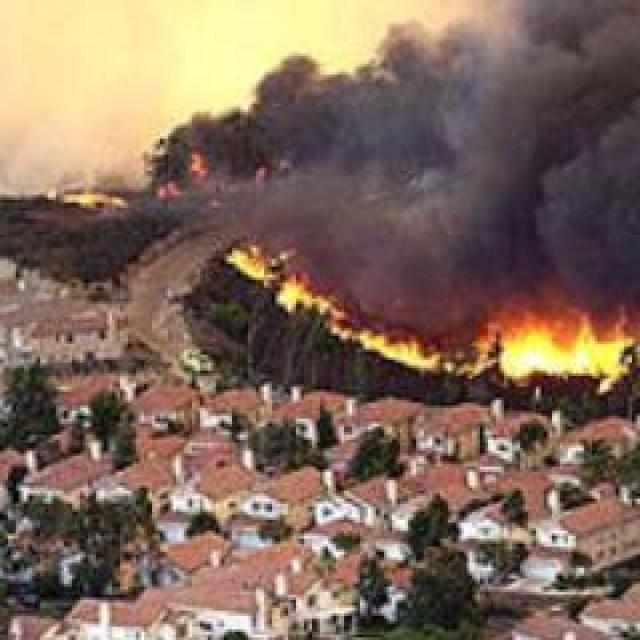Fire: (478, 286, 639, 386), (342, 314, 446, 375), (266, 270, 342, 328), (230, 250, 264, 282)
Smoke: (64, 0, 615, 166)
